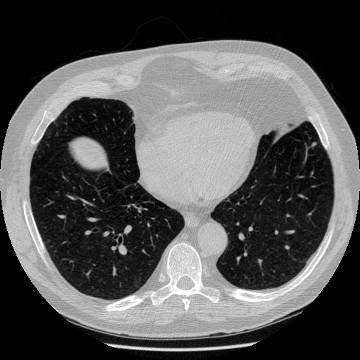nodule: (312, 142, 316, 146)
